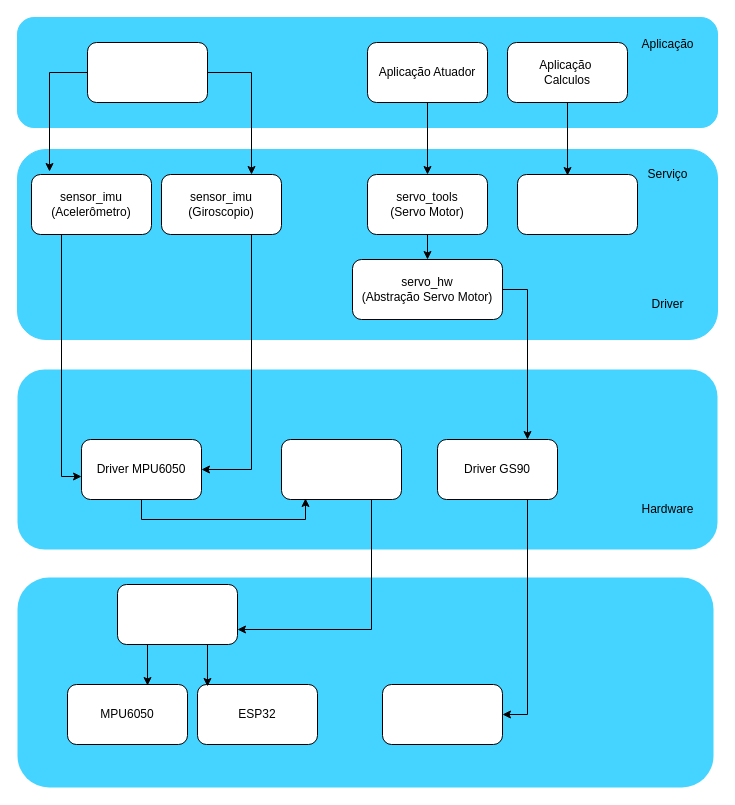
Some shapes in this 735 by 805 pixel diagram are drawn without their labels. The centre of each missing label's shape, as x and y in pixels:
Aplicação Sensor: point (147, 72)
Comunicação IC2: point (177, 614)
Driver IC2: point (341, 469)
GS90: point (442, 714)
imu_tools (Calculos): point (577, 204)
